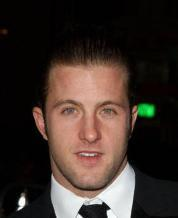face: (56, 98, 123, 164)
